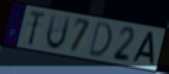2: (112, 25, 137, 63)
7: (69, 17, 93, 54)
A: (131, 30, 155, 67)
D: (87, 19, 114, 58)
T: (26, 9, 47, 47)
U: (45, 12, 73, 51)
